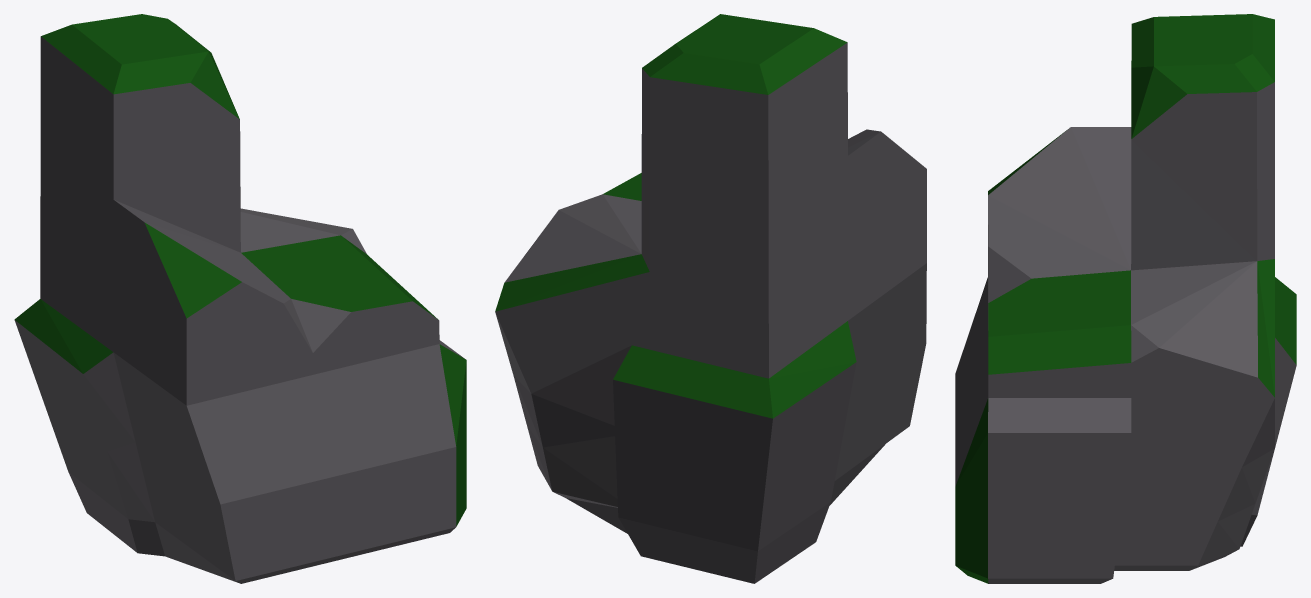
The model's file is SM_Resource_MossyStone.fbx.
3 views of the same model, side by side, from view 1: azimuth 30°, elevation 25°; view 2: azimuth 150°, elevation 25°; view 3: azimuth 270°, elevation 25° (orthographic). The views are drawn at different scales.
Parts seen in each view (by area): view 1: SM_MossyResourceDrop; view 2: SM_MossyResourceDrop; view 3: SM_MossyResourceDrop.
Boxes of the visible parts, left/top/right/bottom form: SM_MossyResourceDrop: left=14, top=14, right=466, bottom=583; SM_MossyResourceDrop: left=495, top=14, right=926, bottom=583; SM_MossyResourceDrop: left=955, top=14, right=1296, bottom=583.
Size of the model in its own units: 94.65 by 147 by 95.16.
